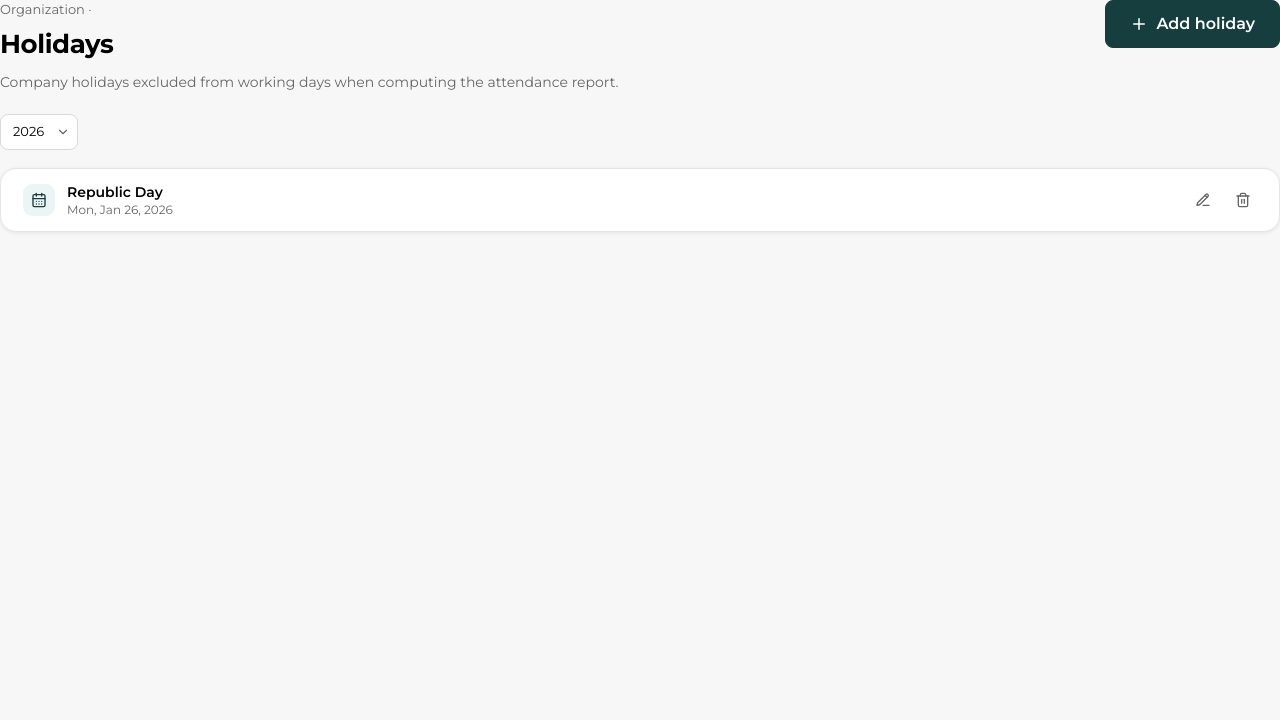
Test: a failed delete surfaces the error and keeps the dialog open
The image size is (1280, 720).
Check: the text "Republic Day" is shown, box [67,182,163,200]
Click the button named "Delete Republic Day" at [1243, 200], box [1229,186,1257,214]
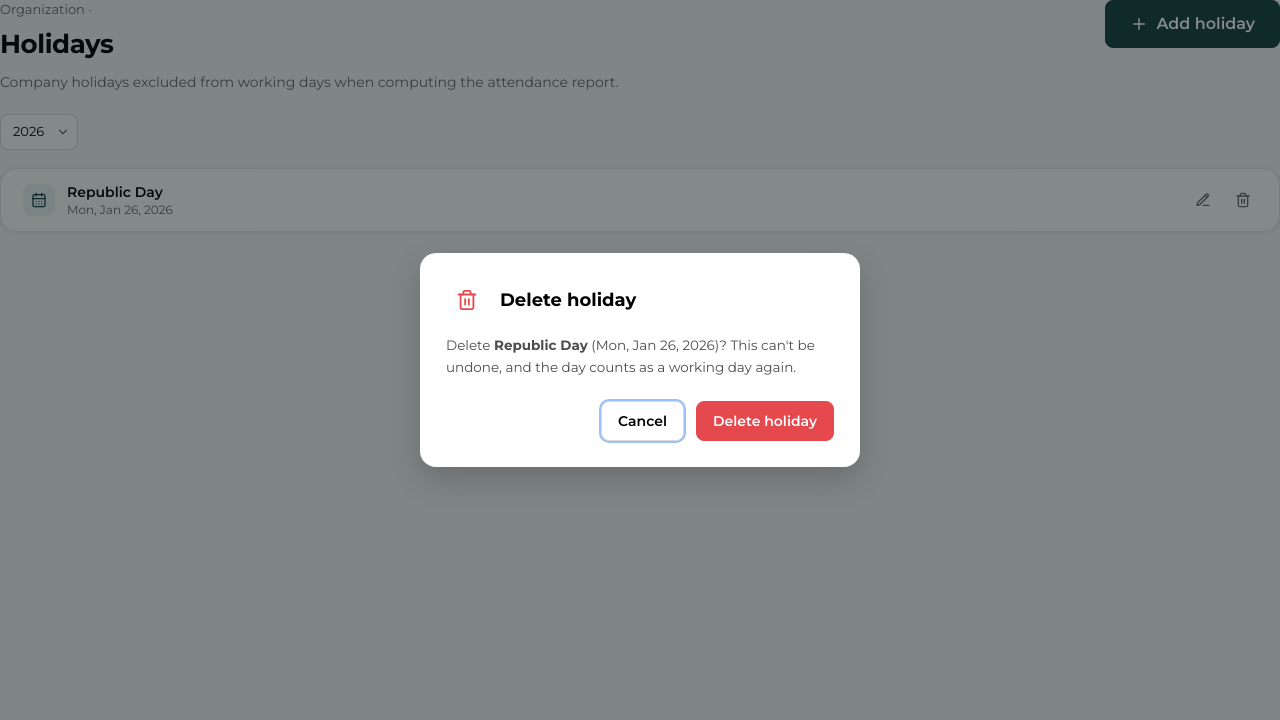
Click the button "Delete holiday" at [765, 421], box [696,401,834,441]
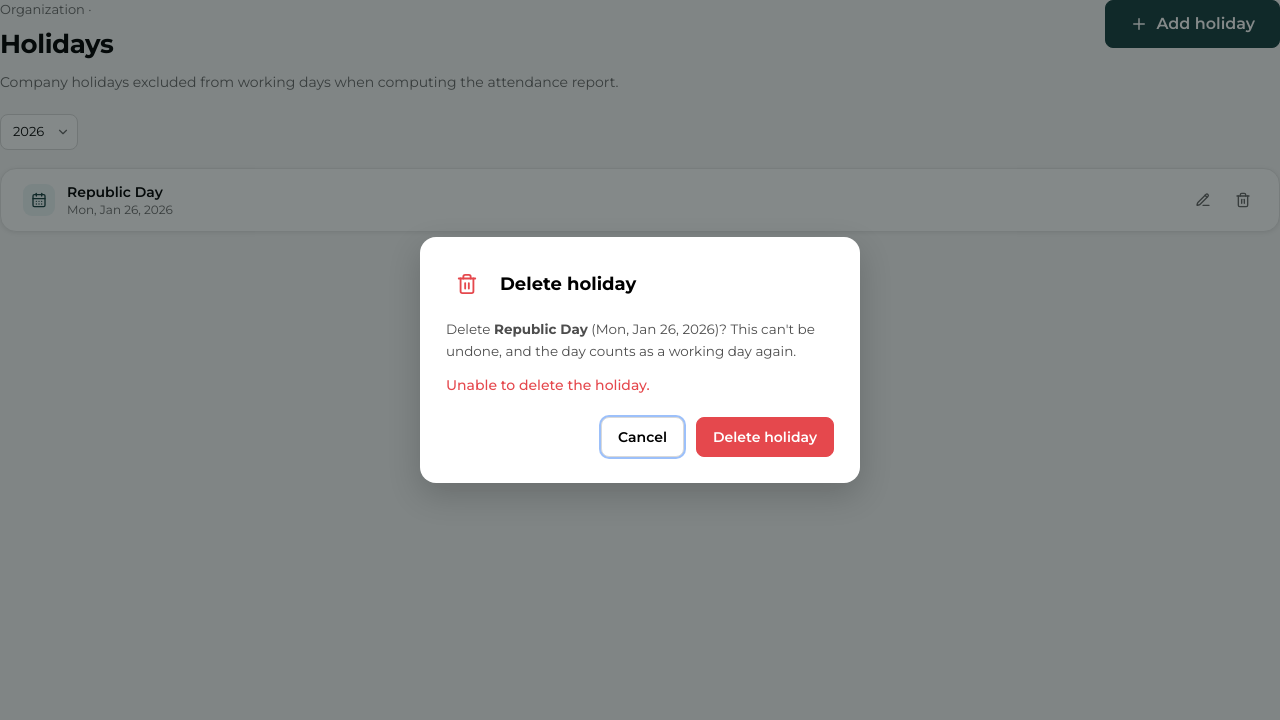
Check: the dialog is shown, box [420,237,860,483]
Check: the text "Unable to delete the holiday." is shown, box [446,376,650,394]
